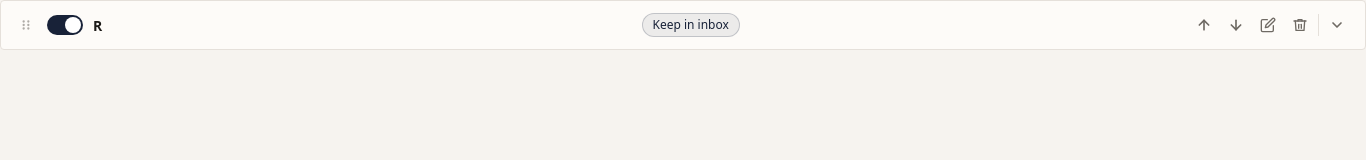
summarize helpers › Duplicate without value
Click the button titled "Expand" at (1337, 25), box [1323, 11, 1351, 39]
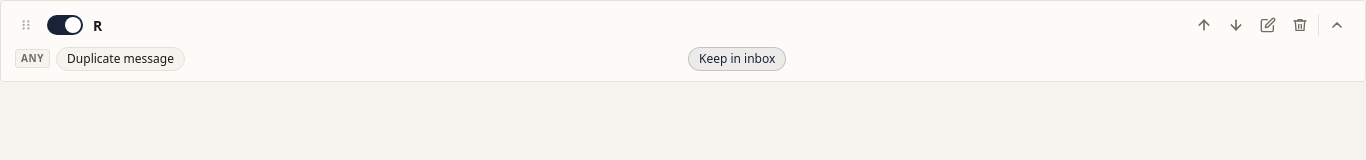
Check: the text "Duplicate message" is shown, box [56, 47, 185, 71]
